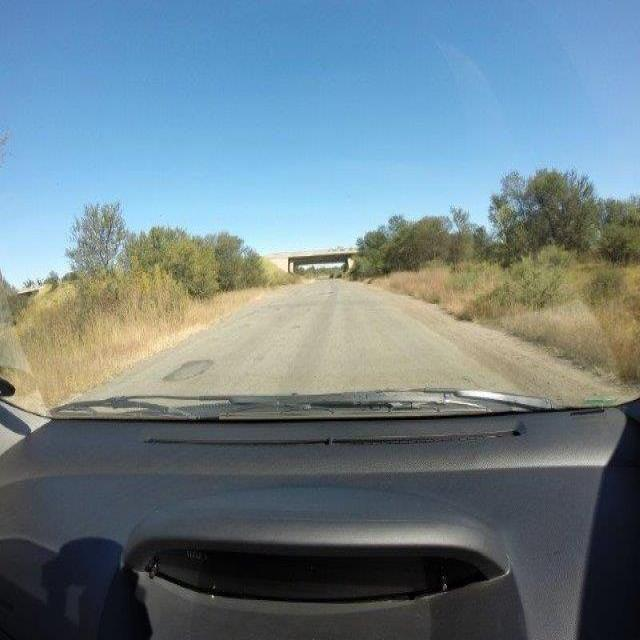lubang: (159, 352, 219, 387)
